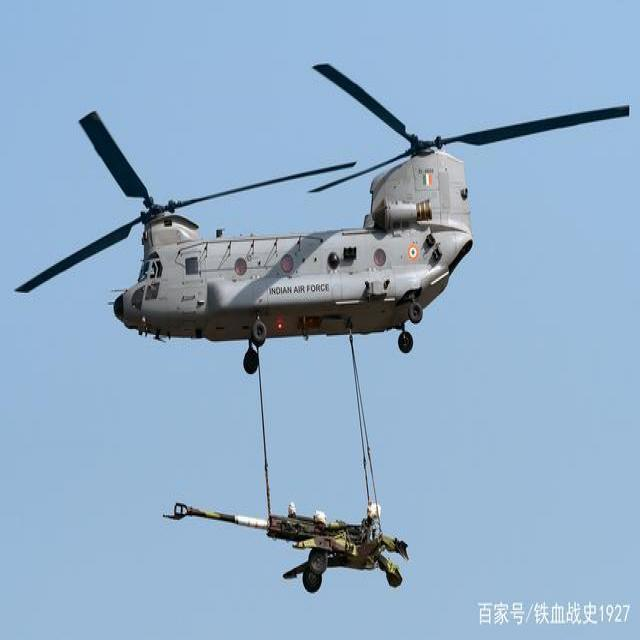MIL_HELO: (8, 57, 629, 356)
